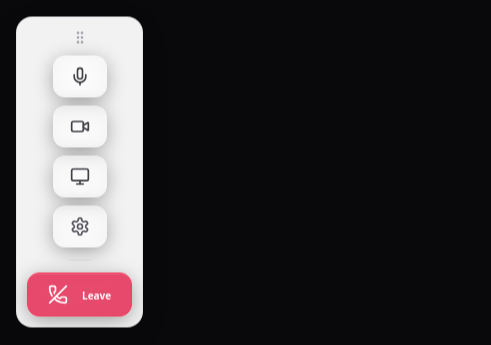
ControlBar Component (Tactile Dark-Glass Controls) › Device Settings Popover & Selection › invokes onSelectVideoDevice when user selects a different camera
Later steps or results of the test are not shown.
Click the button with test id "device-settings-btn" at coordinates (80, 226), box [53, 206, 107, 248]
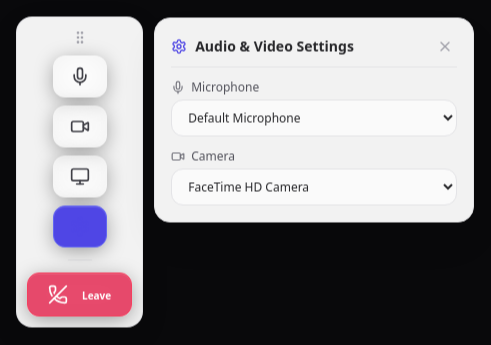
Expected: the dropdown with test id "video-device-select" shows "FaceTime HD Camera", [171, 168, 457, 206]
